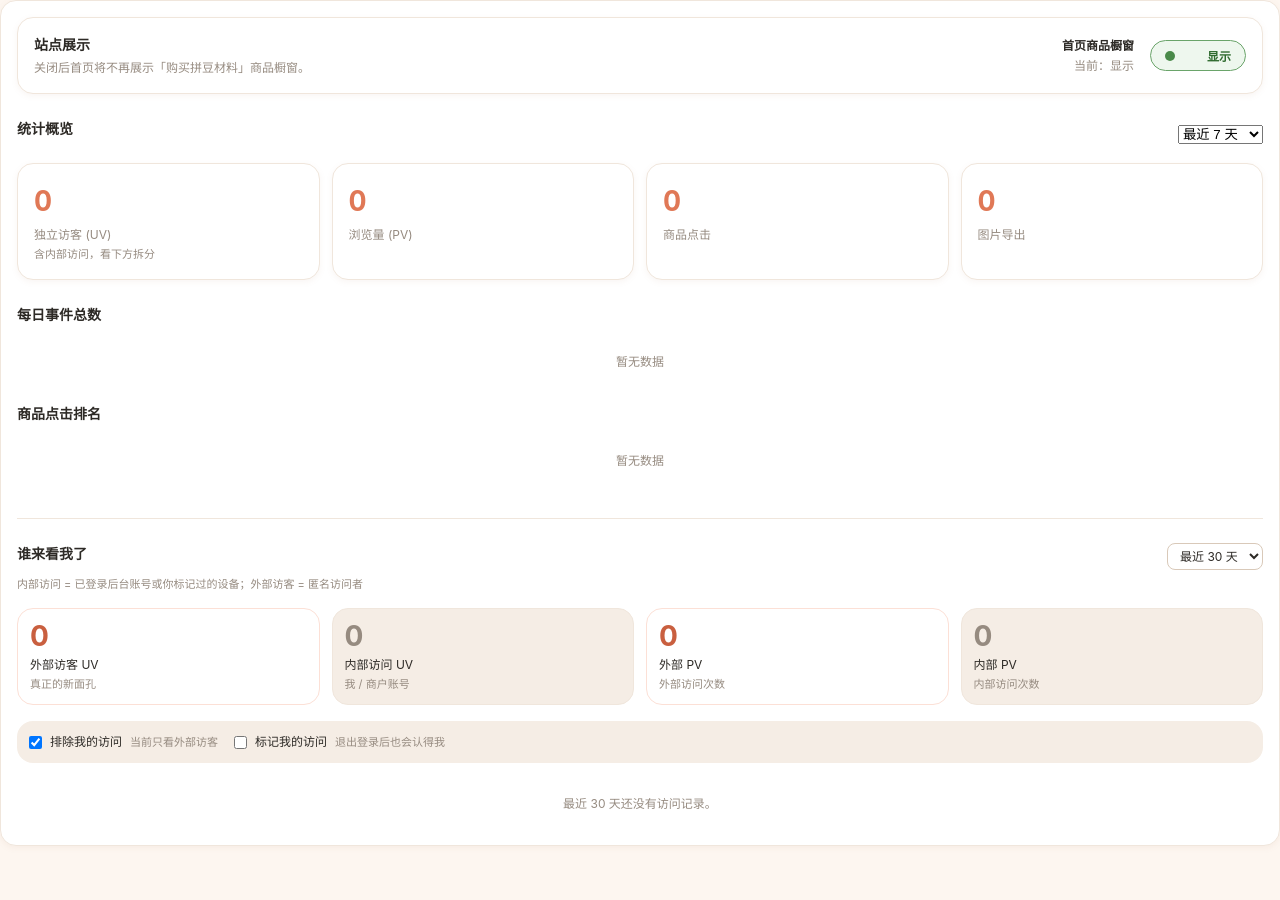
Test: StatsTab site display card (admin only) › rolls back UI when PUT fails
Expected: the text "当前：显示" is shown, [1074,56,1134,74]
What coordinates should you click on to do the following:
click the button with test id "site-toggle-products"
I would click on:
 (1198, 56)
Its box is [1150,40,1246,71].
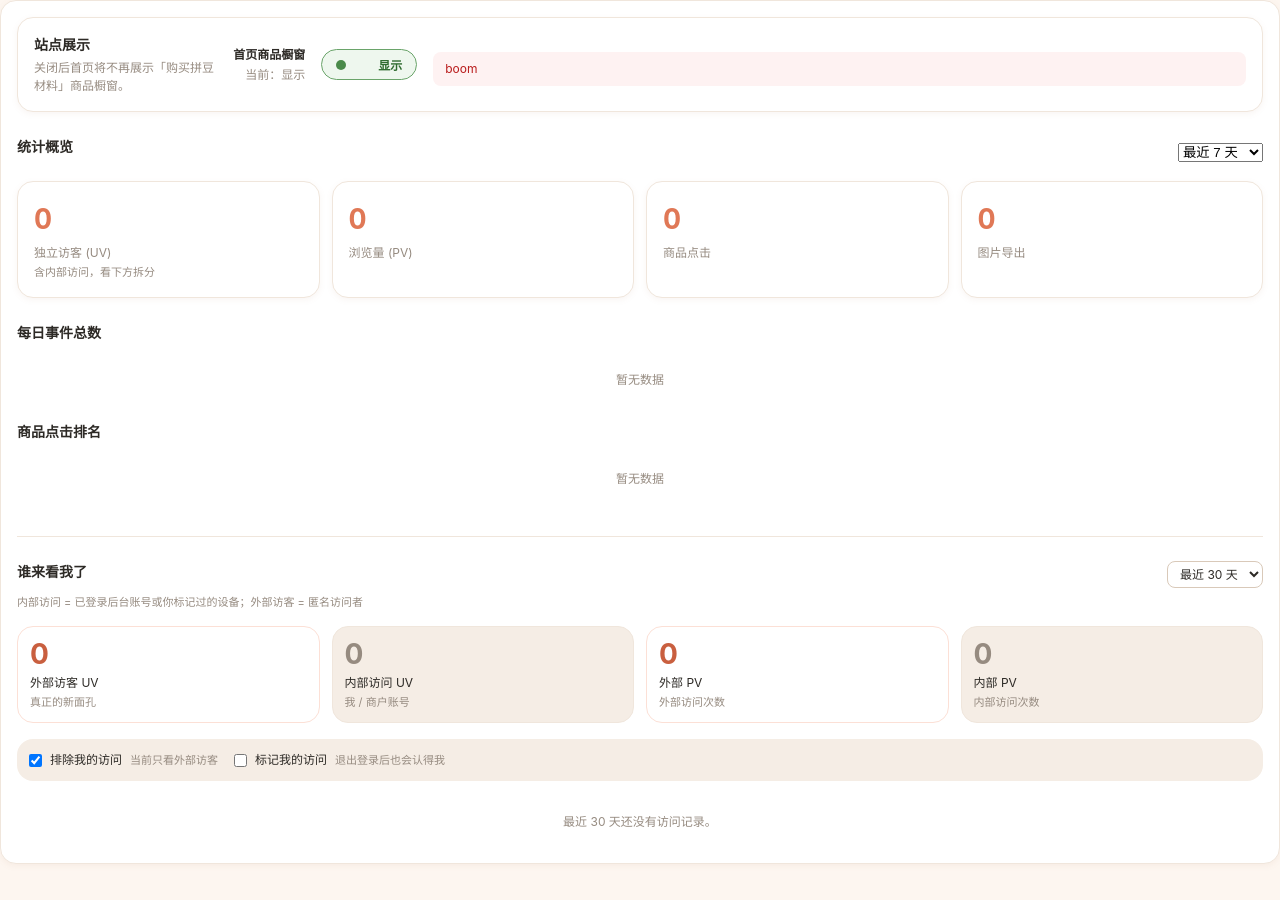
Expected: the text "当前：显示" is shown, [245,66,305,84]
Expected: the text "boom" is shown, [433,52,1246,86]
